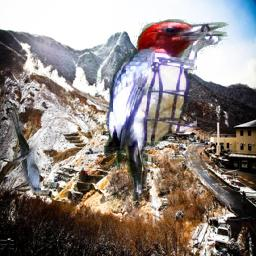Cuckoo: (9, 106, 41, 193)
Woodpecker: (105, 19, 230, 201)
